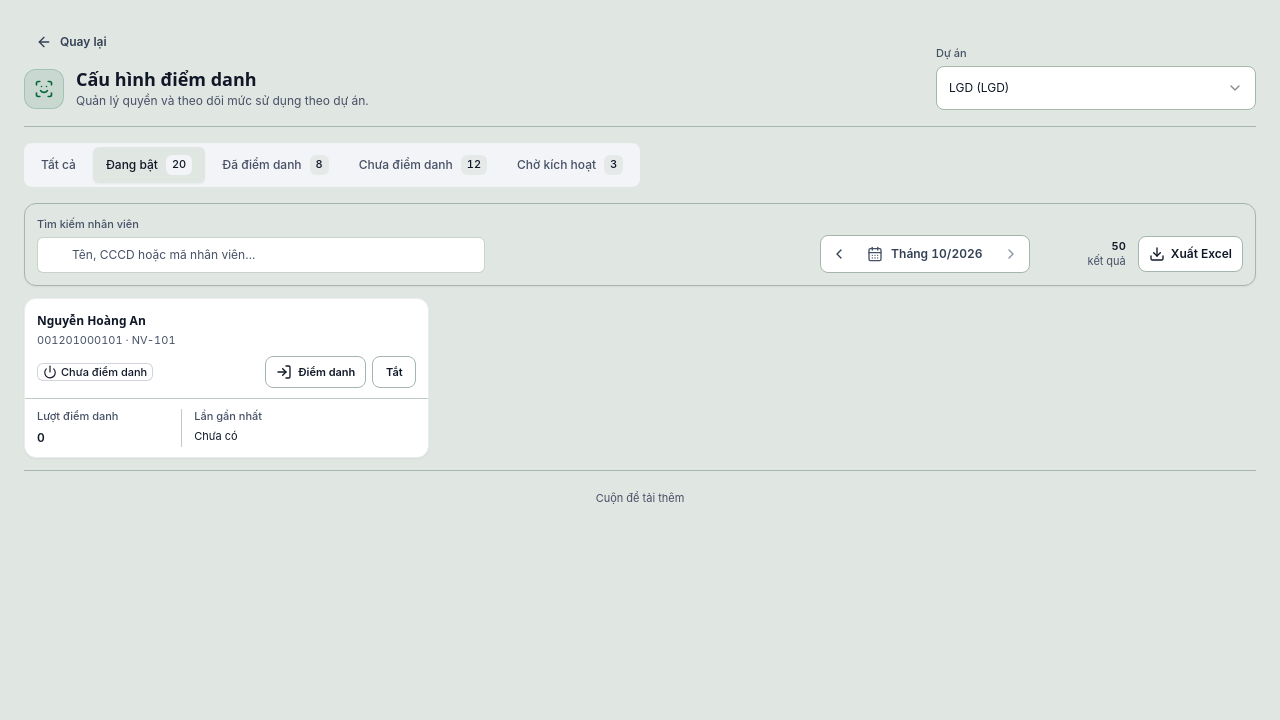
Test: CheckInSettingsPage › offers to mark attendance for a self check-in employee on the current month
Click the button with aria-label "Điểm danh hộ Nguyễn Hoàng An" at (316, 372), box [265, 356, 366, 388]
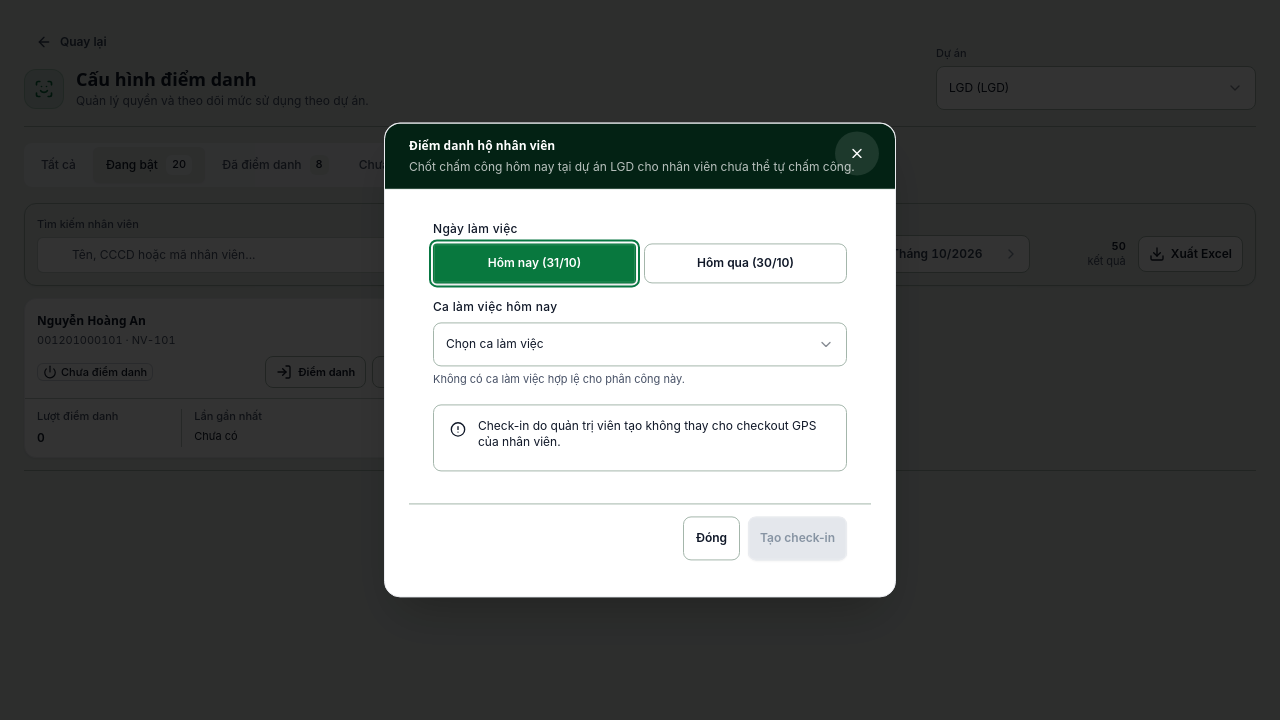
Expected: the heading "Điểm danh hộ nhân viên" is shown, [409, 137, 555, 154]
